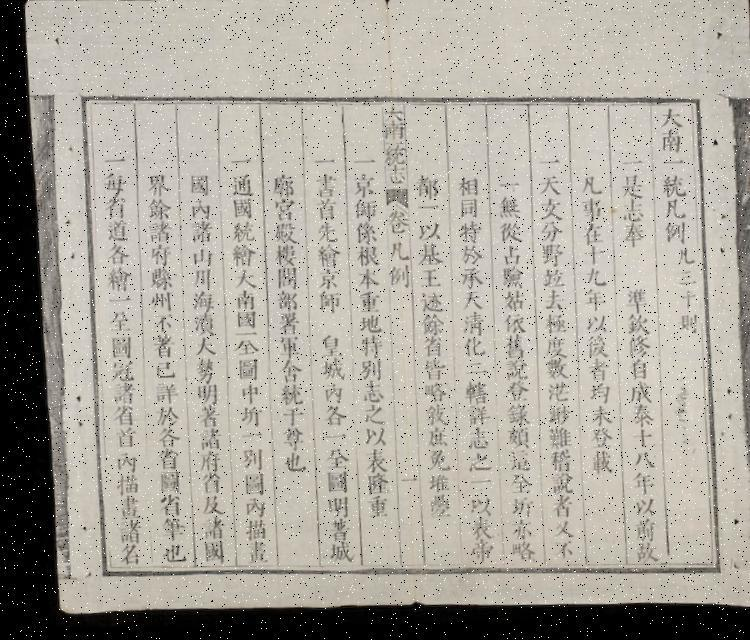c: (612, 177, 643, 205), (98, 264, 128, 292), (616, 290, 646, 318), (654, 176, 684, 204), (453, 382, 484, 409), (407, 175, 438, 202), (105, 517, 135, 544), (352, 449, 382, 476), (656, 223, 686, 250), (494, 405, 526, 430), (266, 172, 294, 200), (576, 336, 604, 364), (614, 225, 643, 252), (307, 173, 336, 200), (98, 240, 128, 266), (619, 407, 649, 433), (313, 470, 343, 496), (222, 172, 252, 198), (99, 308, 129, 334), (456, 518, 486, 544), (96, 171, 126, 197), (410, 244, 440, 270), (452, 314, 482, 340), (182, 220, 212, 246), (224, 244, 254, 270), (147, 516, 178, 541), (455, 453, 486, 478), (99, 358, 130, 383), (495, 428, 526, 453), (312, 447, 343, 472), (227, 405, 258, 430), (450, 268, 481, 293), (346, 174, 374, 201), (143, 332, 171, 359), (105, 494, 134, 520), (101, 380, 130, 406), (141, 242, 170, 268), (139, 172, 168, 198), (578, 453, 607, 479), (653, 132, 682, 158), (183, 312, 212, 338), (310, 334, 339, 360), (308, 245, 337, 271), (265, 198, 294, 224), (96, 195, 126, 220), (143, 380, 173, 405), (346, 200, 376, 225), (490, 199, 520, 224), (349, 336, 379, 361), (186, 427, 216, 452), (311, 359, 341, 384), (616, 316, 646, 341), (614, 203, 644, 228), (618, 475, 648, 500), (538, 497, 568, 522), (537, 452, 567, 477), (411, 292, 441, 317), (536, 429, 566, 454), (455, 497, 486, 521), (185, 357, 212, 384), (576, 291, 604, 317), (231, 471, 259, 497), (494, 337, 522, 363), (416, 495, 444, 521), (456, 428, 484, 454), (230, 446, 258, 472), (101, 334, 129, 360), (308, 198, 336, 224), (224, 220, 252, 246), (232, 540, 261, 565), (140, 197, 169, 222), (349, 292, 378, 317), (576, 362, 605, 387), (618, 384, 647, 409), (415, 450, 444, 475), (314, 518, 343, 543), (620, 522, 649, 547), (268, 336, 297, 361), (496, 451, 525, 476), (98, 218, 127, 243), (269, 360, 298, 385), (532, 246, 561, 271), (144, 404, 174, 428), (139, 220, 169, 244), (140, 266, 170, 290), (103, 425, 131, 450), (532, 177, 560, 202), (228, 358, 256, 383), (574, 226, 602, 251), (492, 269, 520, 294), (190, 516, 218, 541), (146, 469, 174, 494), (232, 517, 260, 542), (355, 496, 383, 521), (314, 495, 342, 520), (352, 382, 380, 407), (186, 404, 214, 429), (268, 312, 296, 337), (313, 405, 341, 430), (270, 427, 298, 452), (267, 267, 295, 292), (532, 201, 560, 226), (451, 223, 479, 248), (266, 245, 295, 269), (412, 315, 441, 339), (578, 430, 607, 454), (413, 405, 442, 429), (104, 472, 133, 496), (455, 406, 484, 430), (653, 111, 682, 135), (350, 360, 379, 384), (537, 475, 566, 499), (497, 520, 526, 544), (495, 383, 524, 407), (493, 292, 522, 316), (494, 362, 524, 385), (497, 543, 528, 565), (182, 172, 208, 198), (574, 201, 600, 227), (348, 223, 375, 248), (146, 447, 174, 471), (536, 361, 564, 385), (270, 384, 298, 408), (494, 315, 522, 339), (224, 198, 252, 222), (536, 384, 564, 408), (451, 246, 479, 270), (534, 292, 562, 316), (190, 540, 218, 564), (498, 497, 526, 521), (102, 403, 130, 427), (106, 542, 134, 566), (188, 471, 216, 495), (618, 339, 646, 363), (182, 198, 210, 222), (266, 223, 294, 247), (310, 292, 338, 316), (492, 224, 520, 248), (348, 246, 376, 270), (621, 545, 650, 568), (149, 541, 178, 564), (457, 542, 486, 565), (413, 360, 440, 384), (533, 224, 560, 248), (309, 269, 336, 293), (413, 337, 440, 361), (578, 385, 605, 409), (535, 339, 562, 363), (349, 269, 376, 293), (450, 177, 477, 201), (184, 290, 211, 314), (183, 245, 211, 268), (620, 500, 648, 523), (316, 542, 344, 565), (536, 407, 564, 430), (452, 292, 480, 315), (226, 269, 254, 292), (453, 338, 481, 361), (272, 452, 300, 475), (620, 431, 648, 454), (146, 426, 174, 449), (352, 427, 380, 450), (352, 405, 380, 428), (413, 383, 441, 406), (188, 450, 216, 473), (655, 202, 683, 225), (496, 475, 524, 498), (410, 222, 438, 245), (574, 178, 600, 202), (184, 267, 210, 291), (148, 493, 174, 517), (313, 383, 339, 407), (104, 450, 131, 473), (535, 316, 562, 339), (534, 270, 561, 293), (579, 408, 606, 431), (412, 269, 439, 292), (189, 494, 216, 517), (232, 496, 259, 519), (355, 474, 382, 497), (268, 291, 295, 314), (620, 453, 648, 475), (539, 542, 567, 564), (226, 337, 254, 359), (142, 290, 170, 312), (619, 362, 644, 386), (668, 317, 694, 340), (416, 428, 442, 451), (417, 474, 443, 497), (309, 223, 335, 246), (145, 358, 171, 381), (229, 383, 255, 406), (186, 383, 212, 406), (142, 312, 169, 334), (539, 521, 566, 543), (576, 316, 603, 338), (350, 315, 377, 337), (380, 267, 404, 291), (494, 247, 519, 270), (227, 311, 252, 334), (452, 200, 477, 223), (665, 251, 691, 273), (576, 270, 602, 292), (185, 336, 211, 358), (576, 249, 602, 271), (454, 361, 482, 381), (228, 290, 252, 313), (272, 407, 298, 428), (382, 242, 404, 266), (379, 148, 403, 170), (670, 294, 693, 316), (307, 154, 335, 172), (97, 152, 126, 169), (98, 292, 128, 308), (491, 181, 519, 198), (532, 158, 560, 175), (614, 159, 642, 176), (229, 429, 258, 445), (654, 160, 683, 176), (669, 272, 692, 292), (379, 125, 403, 144), (380, 211, 406, 228), (457, 478, 484, 494), (313, 431, 341, 446), (347, 156, 373, 172), (410, 204, 438, 218), (224, 156, 252, 170), (382, 170, 403, 188), (379, 108, 401, 125), (382, 224, 402, 240), (390, 475, 410, 491), (381, 142, 403, 156)
